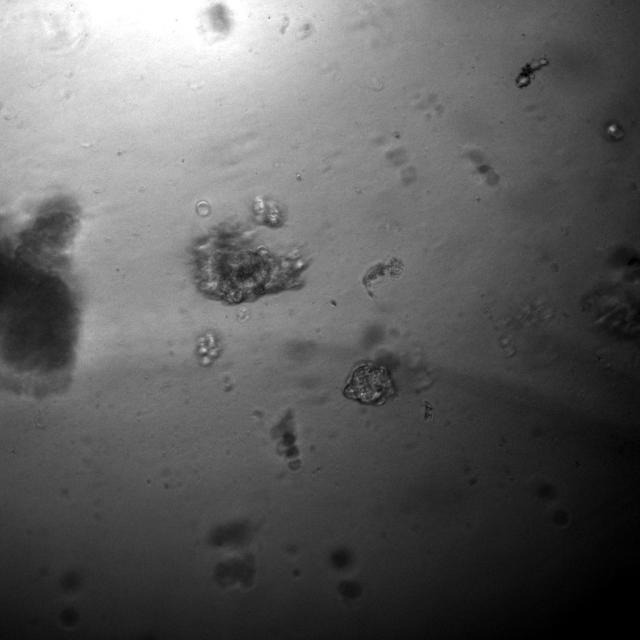organoid: (0, 194, 81, 394), (192, 223, 306, 304), (343, 362, 396, 405), (252, 196, 285, 227), (196, 331, 221, 365), (196, 200, 211, 217)
